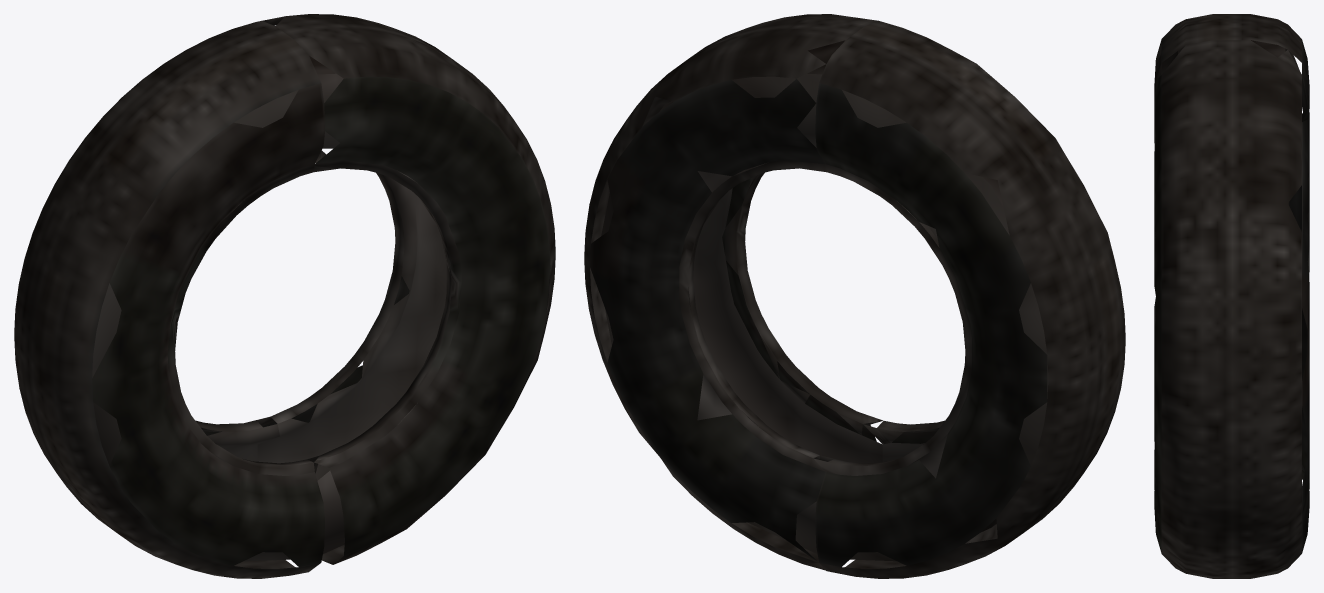
The model's file is tyre_lo.glb.
3 renders of one model, left to right at view 1: azimuth 30°, elevation 25°; view 2: azimuth 150°, elevation 25°; view 3: azimuth 270°, elevation 25°, orthographic. The views are drawn at different scales.
Parts seen in each view (by area): view 1: merged; view 2: merged; view 3: merged.
Boxes of the visible parts, bbox=[...] form: merged: bbox=[14, 14, 555, 578]; merged: bbox=[584, 14, 1125, 578]; merged: bbox=[1154, 14, 1309, 578].
Size of the model in its own units: 0.6 by 0.6 by 0.165.
1 material, 1 textured.
